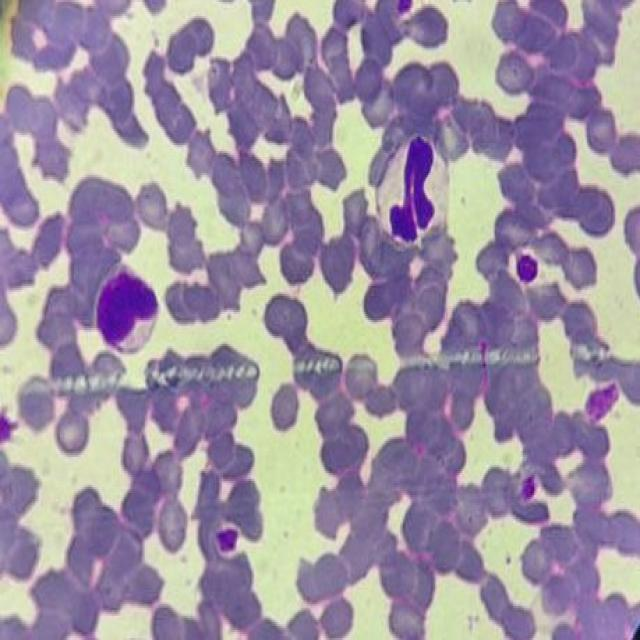Neutrofilo: (374, 132, 451, 250), (93, 265, 162, 356)
